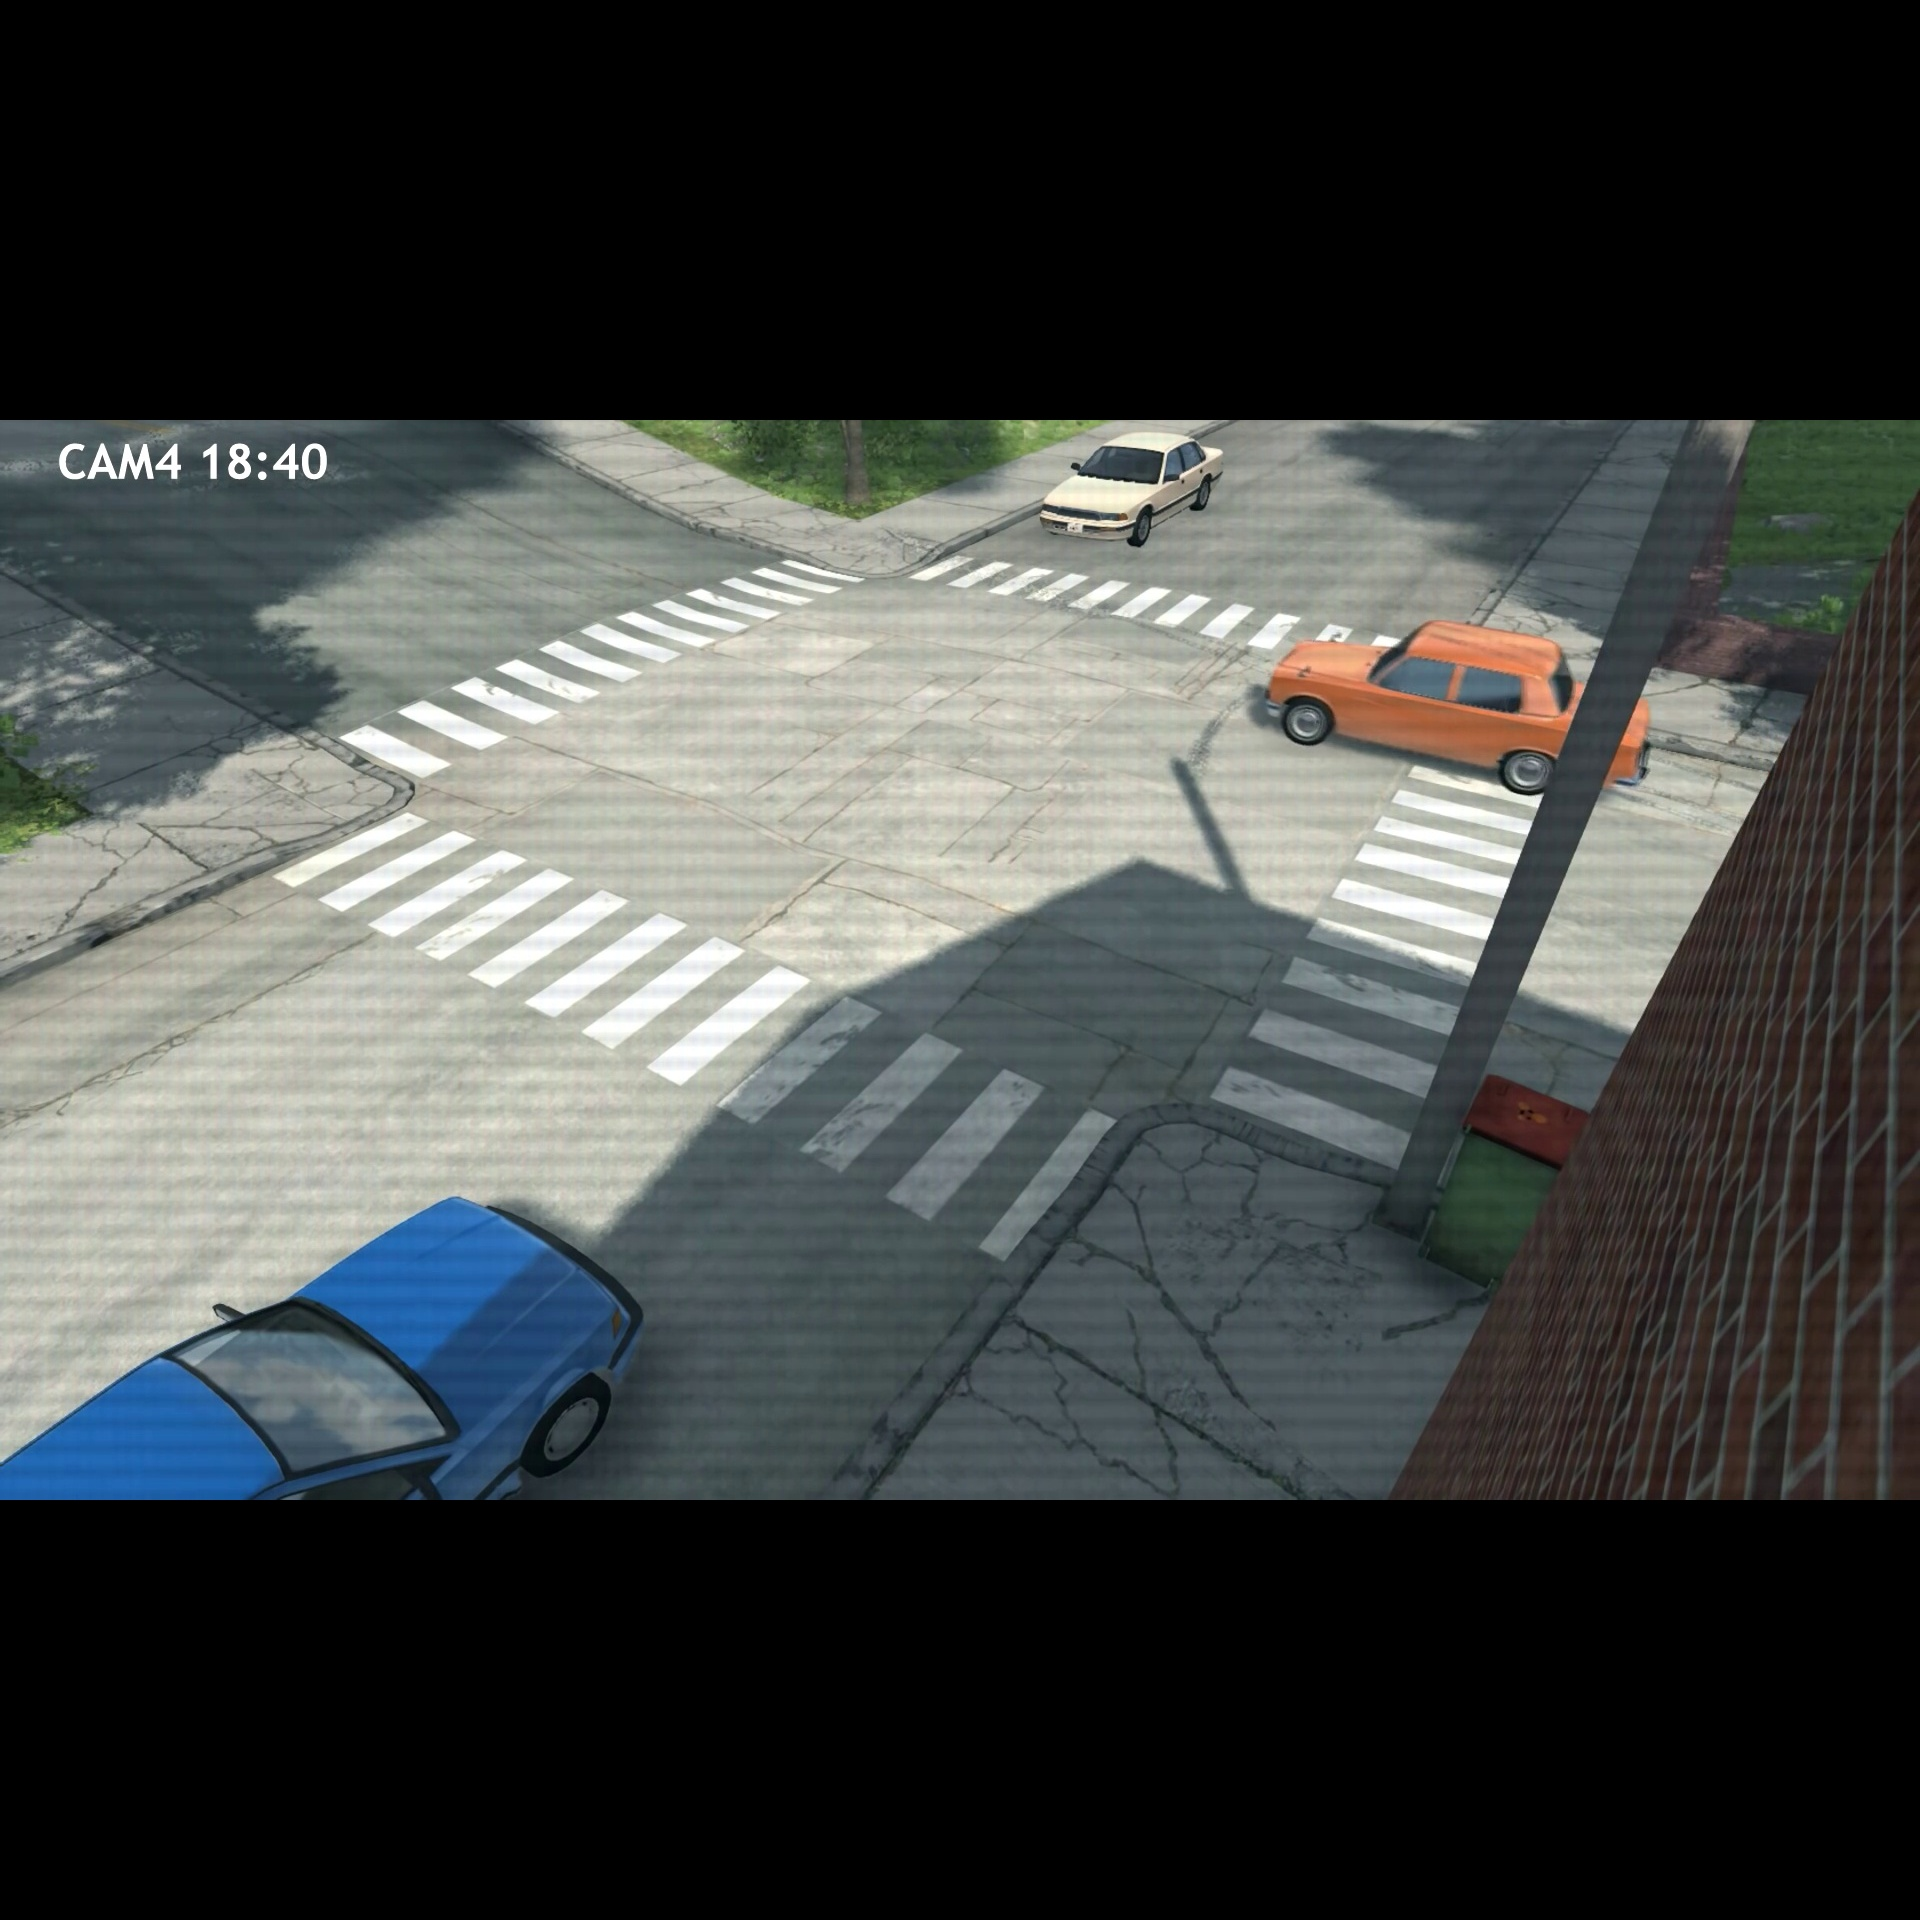vehicle: (2, 1183, 672, 1500), (1252, 608, 1662, 807), (1036, 431, 1236, 547)
